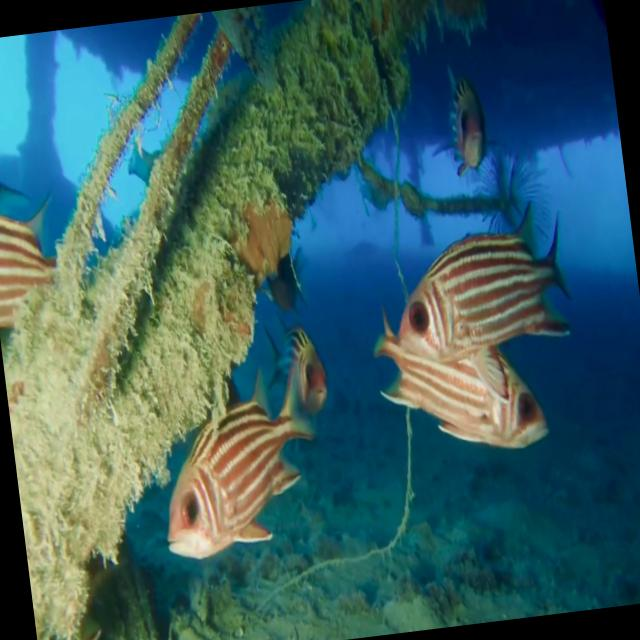Asker Baligi: (356, 195, 589, 467), (140, 308, 347, 564)
